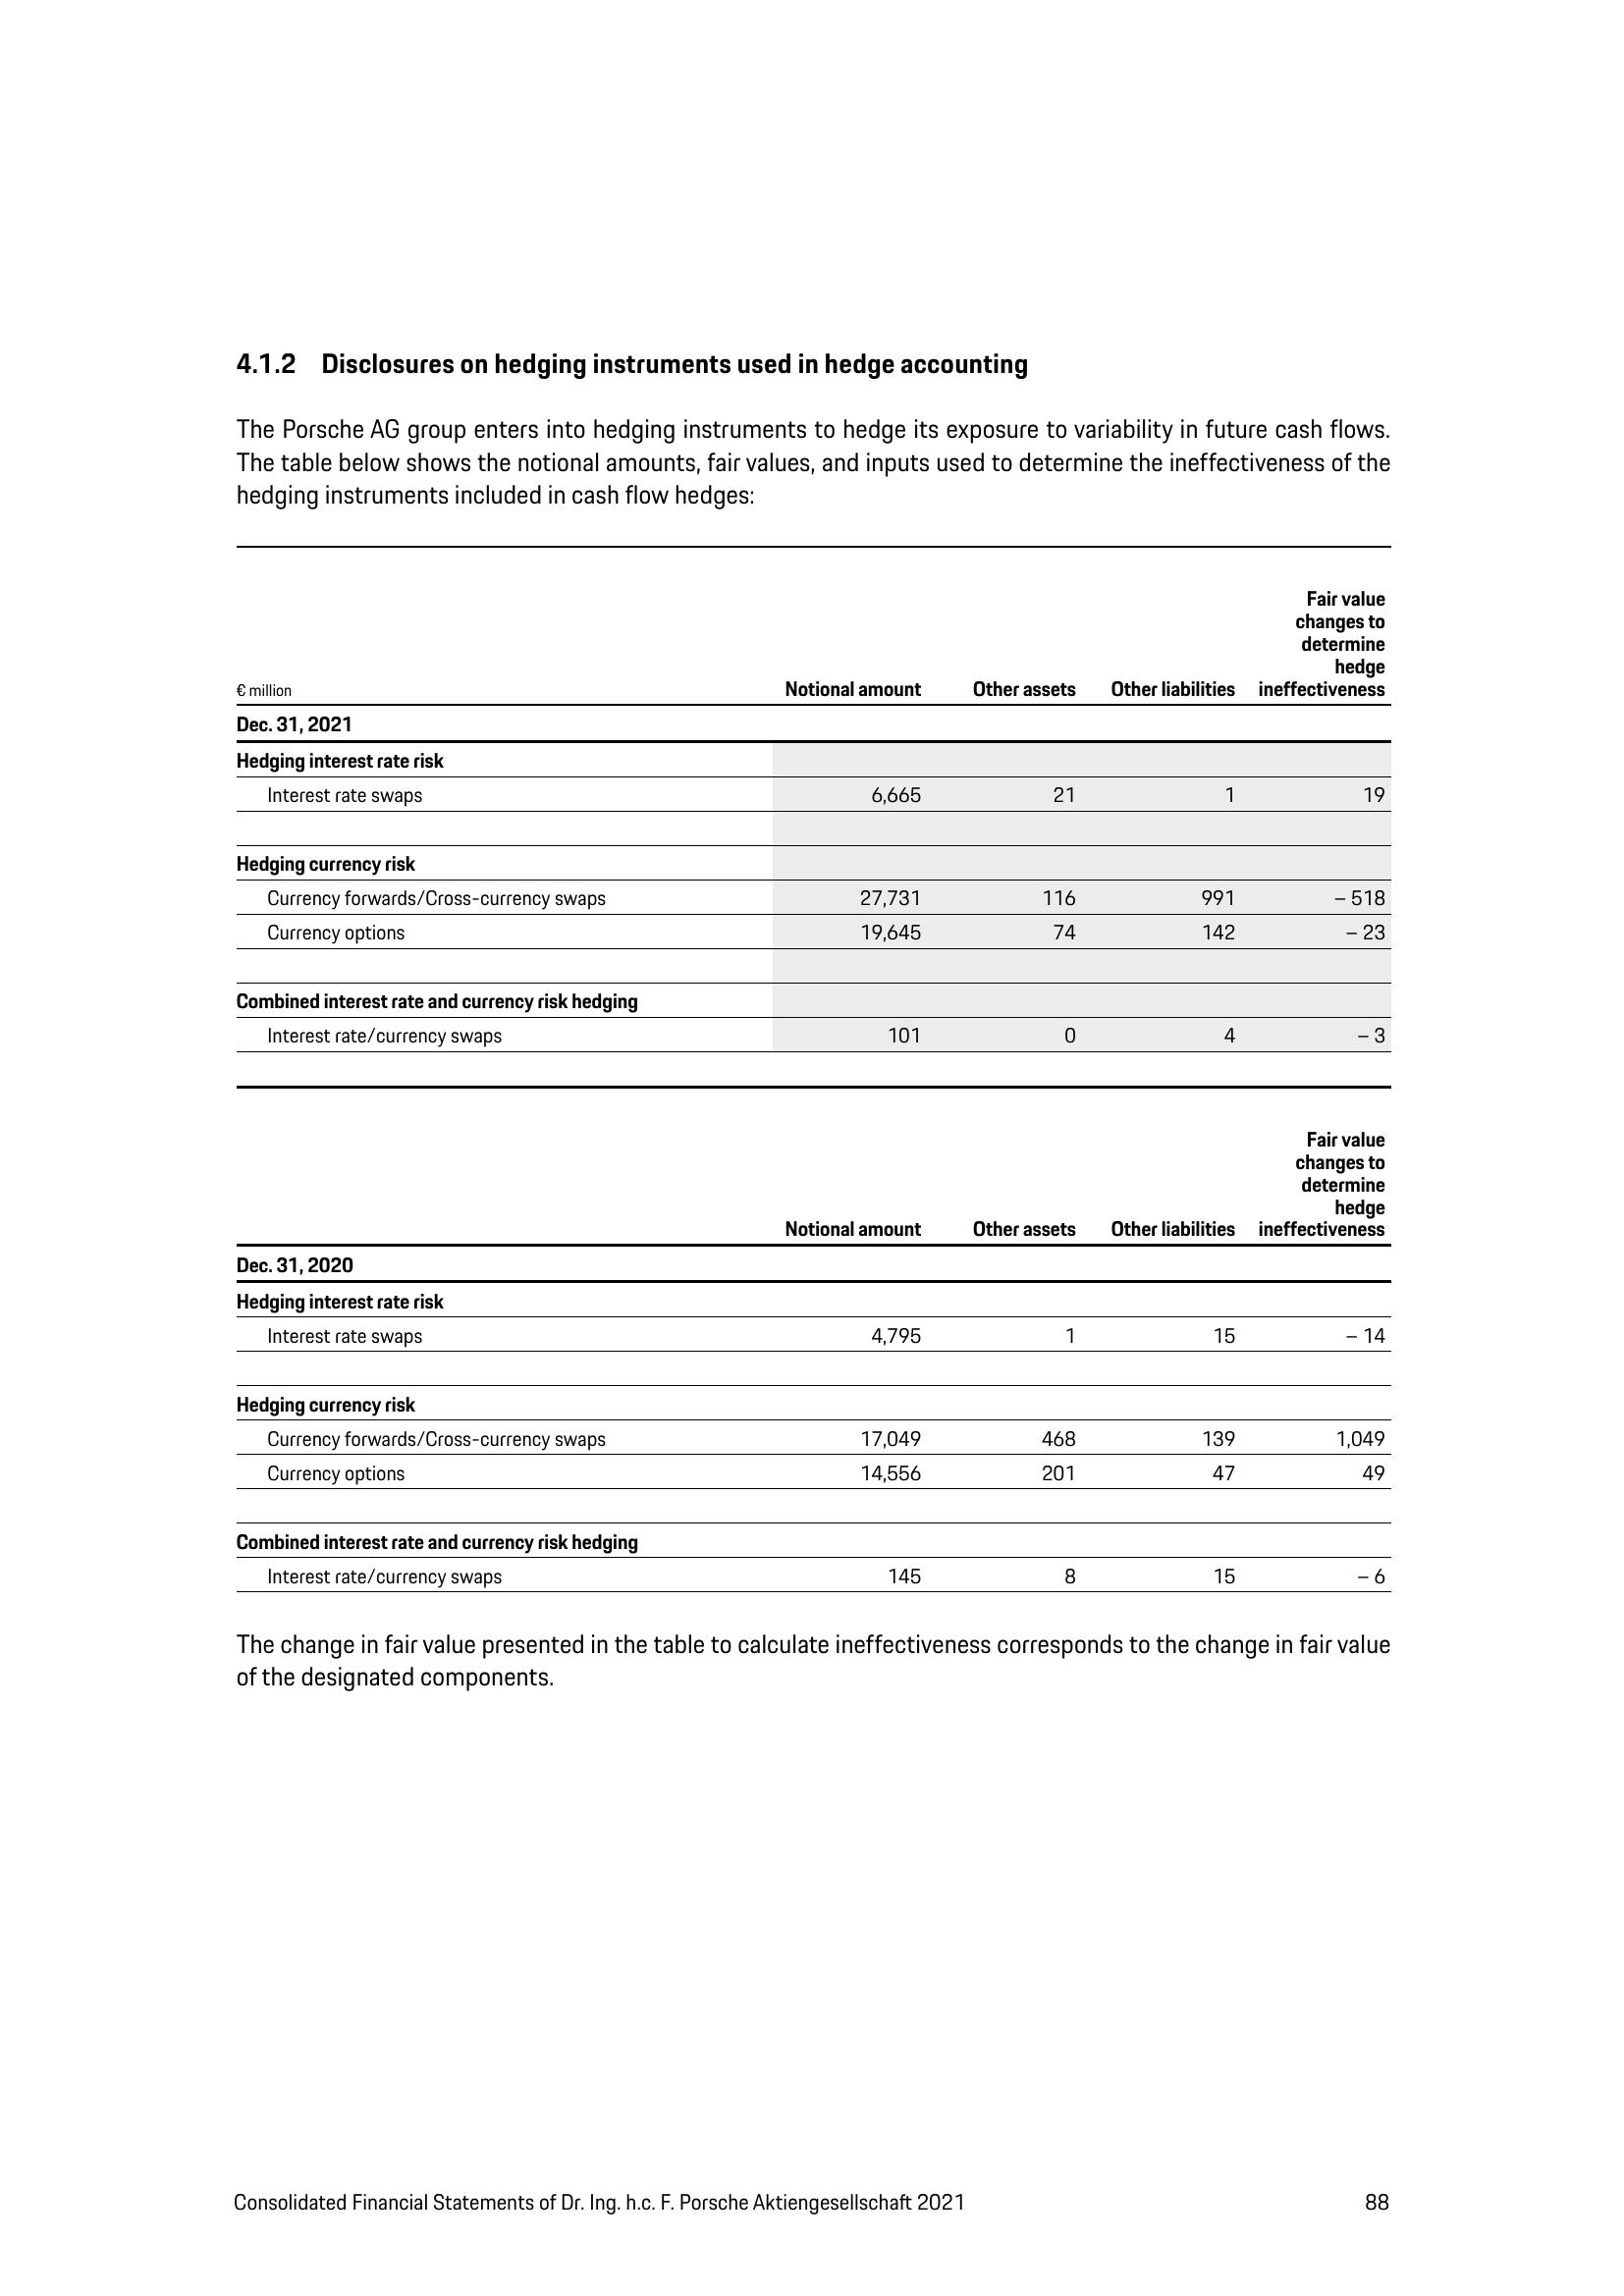Footer: (0, 2140, 1624, 2296)
Header: (0, 0, 1624, 237)
Table: (213, 546, 1429, 1073), (221, 1110, 1425, 1599)
